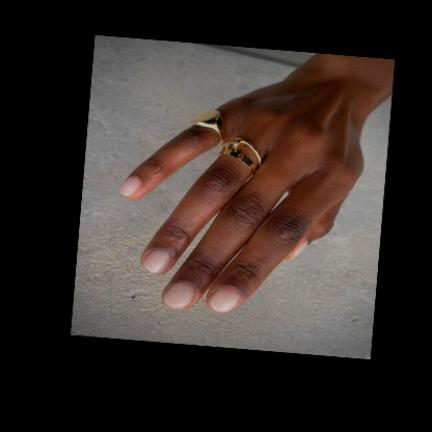Nail: (163, 282, 195, 309), (209, 287, 240, 312), (143, 250, 170, 273), (118, 176, 140, 196)
